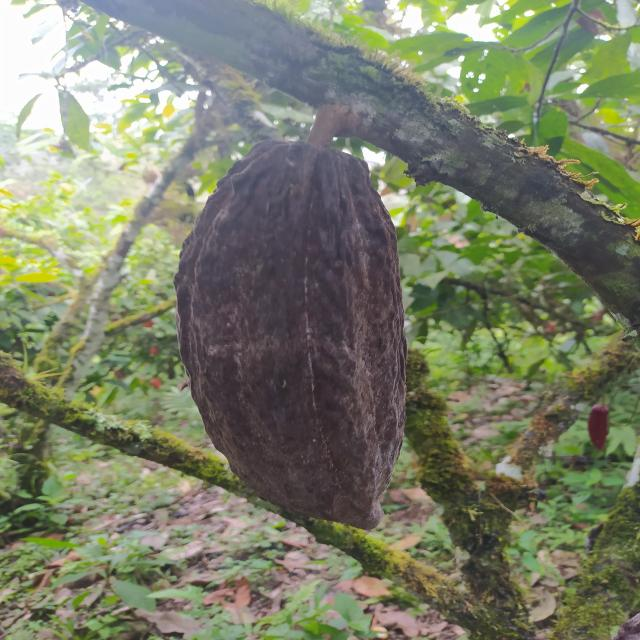Fitoftora: (176, 142, 409, 531)
Sana: (588, 406, 611, 447)
